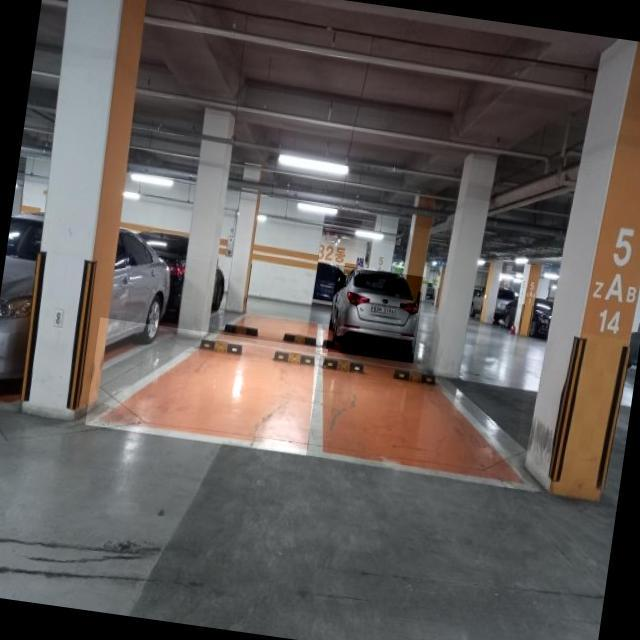empty: (85, 318, 328, 458), (306, 356, 525, 486)
occupied: (326, 265, 425, 363)
